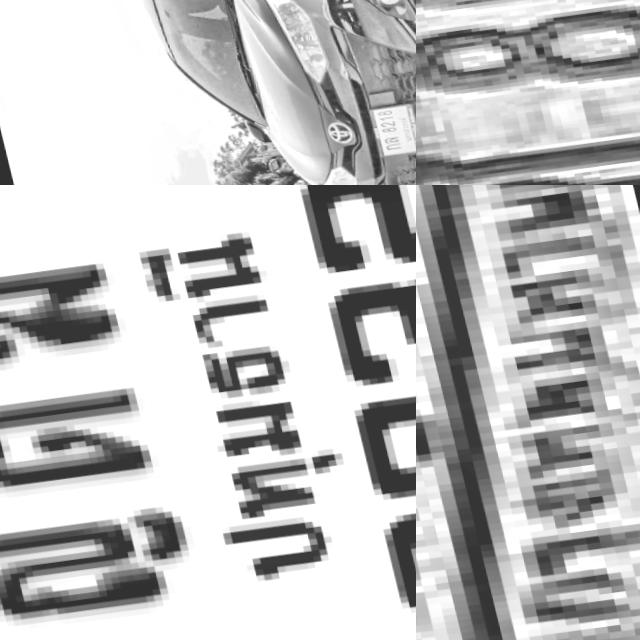license-plate: (0, 185, 416, 640), (416, 185, 640, 640), (416, 0, 640, 185), (347, 93, 416, 164)
